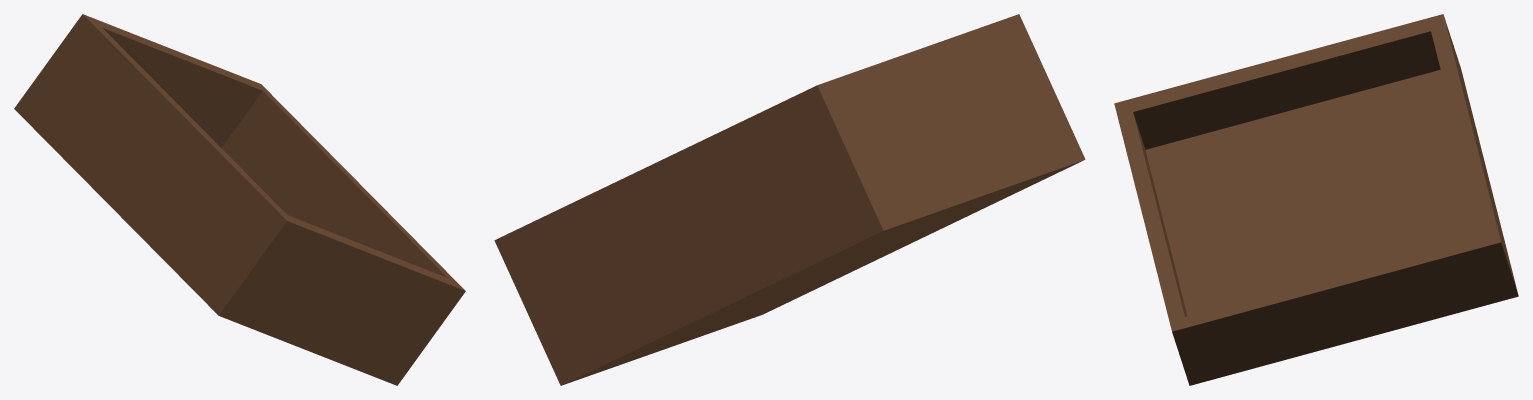
Rendered from TruckFloor.fbx.
The picture shows the model from 3 angles, left to right: view 1: azimuth 30°, elevation 25°; view 2: azimuth 150°, elevation 25°; view 3: azimuth 270°, elevation 25°; orthographic projection. The views are drawn at different scales.
Visible parts, largest first — view 1: TruckBody.003; view 2: TruckBody.003; view 3: TruckBody.003.
Boxes of the visible parts, x1,y1,x2,y2 form: TruckBody.003: (14,14,465,385); TruckBody.003: (494,14,1085,385); TruckBody.003: (1114,14,1518,385).
Size of the model in its own units: 217 by 278 by 221.
